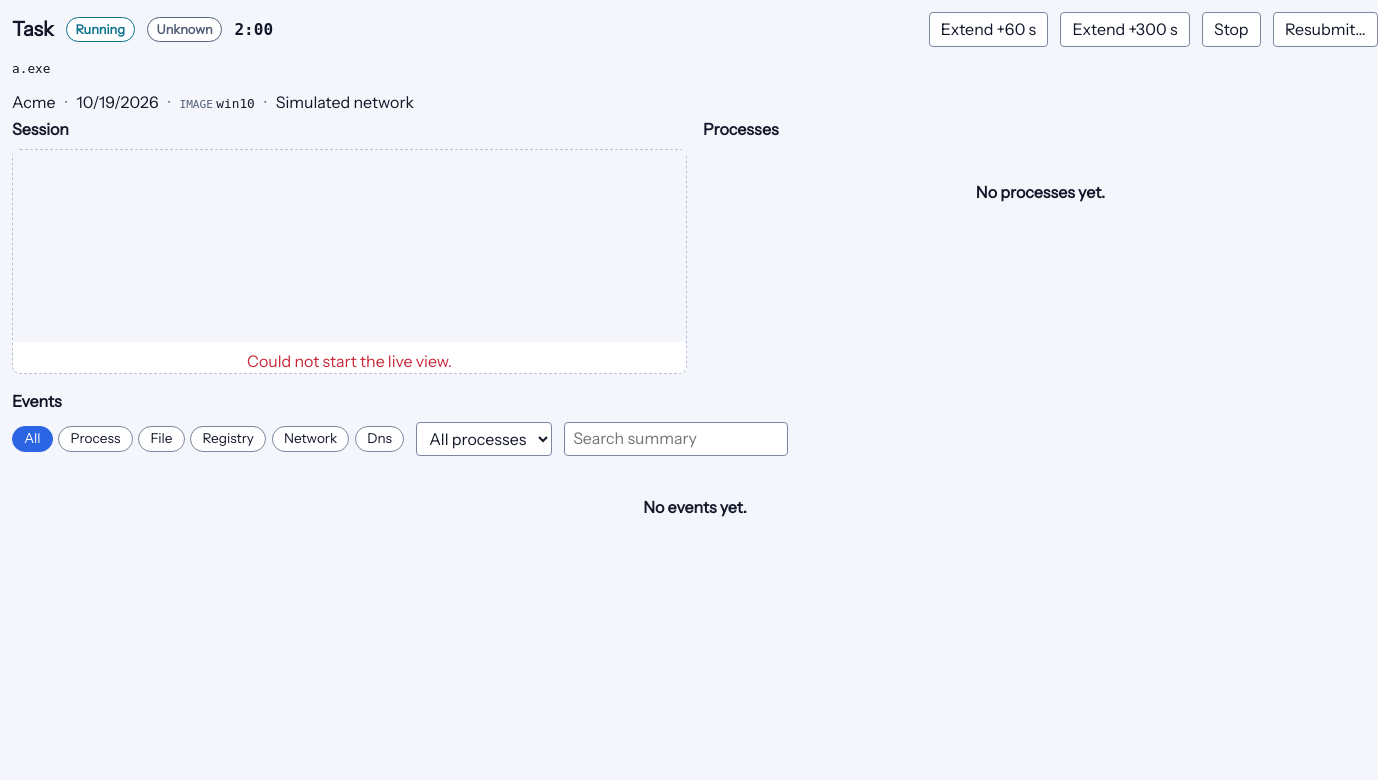
Test case: TaskPage › shows an action failure as an error toast
The width and height of the screenshot is (1378, 780).
Expected: the text "Running" is shown, [66, 17, 135, 42]
Click the button "Extend +60 s" at (988, 29), box [928, 12, 1048, 47]
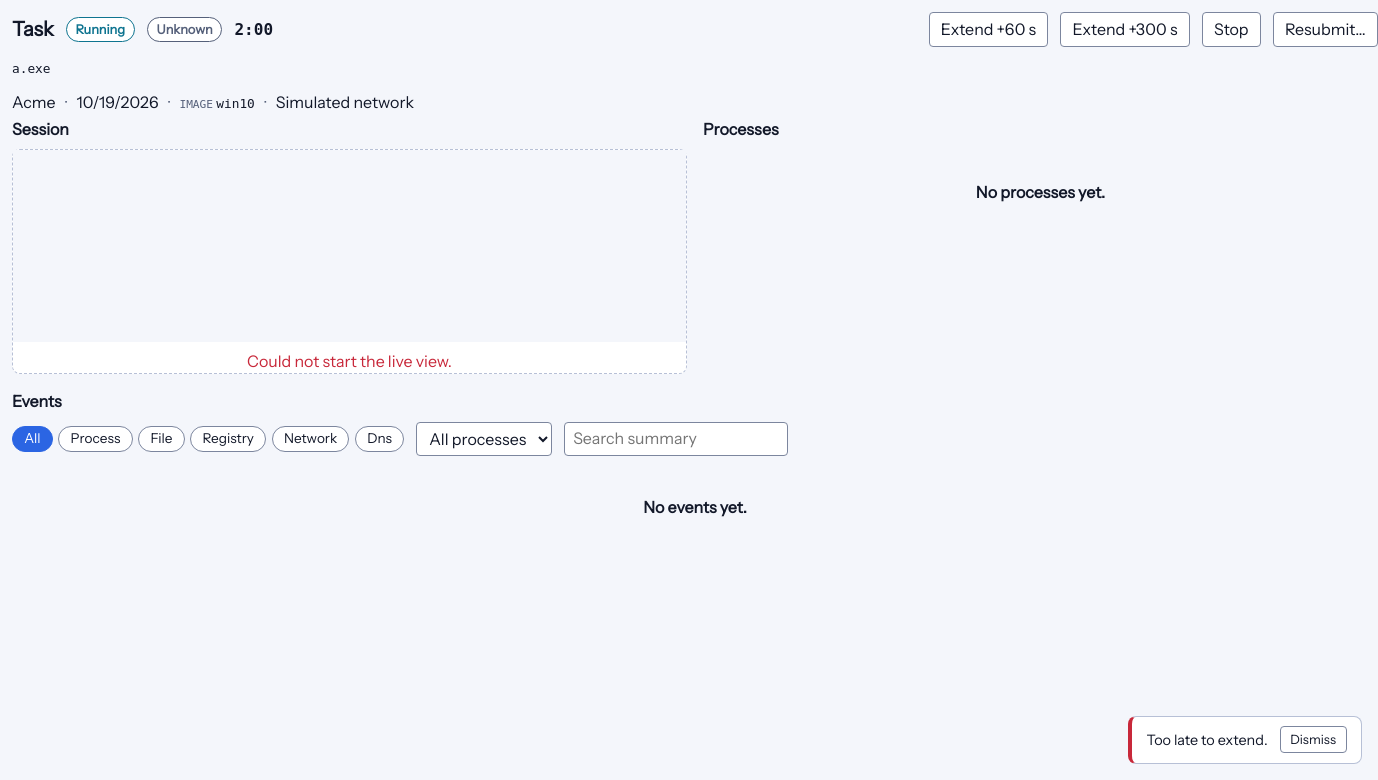
Result: the text "Too late to extend." is shown at [1146, 730, 1268, 750]
